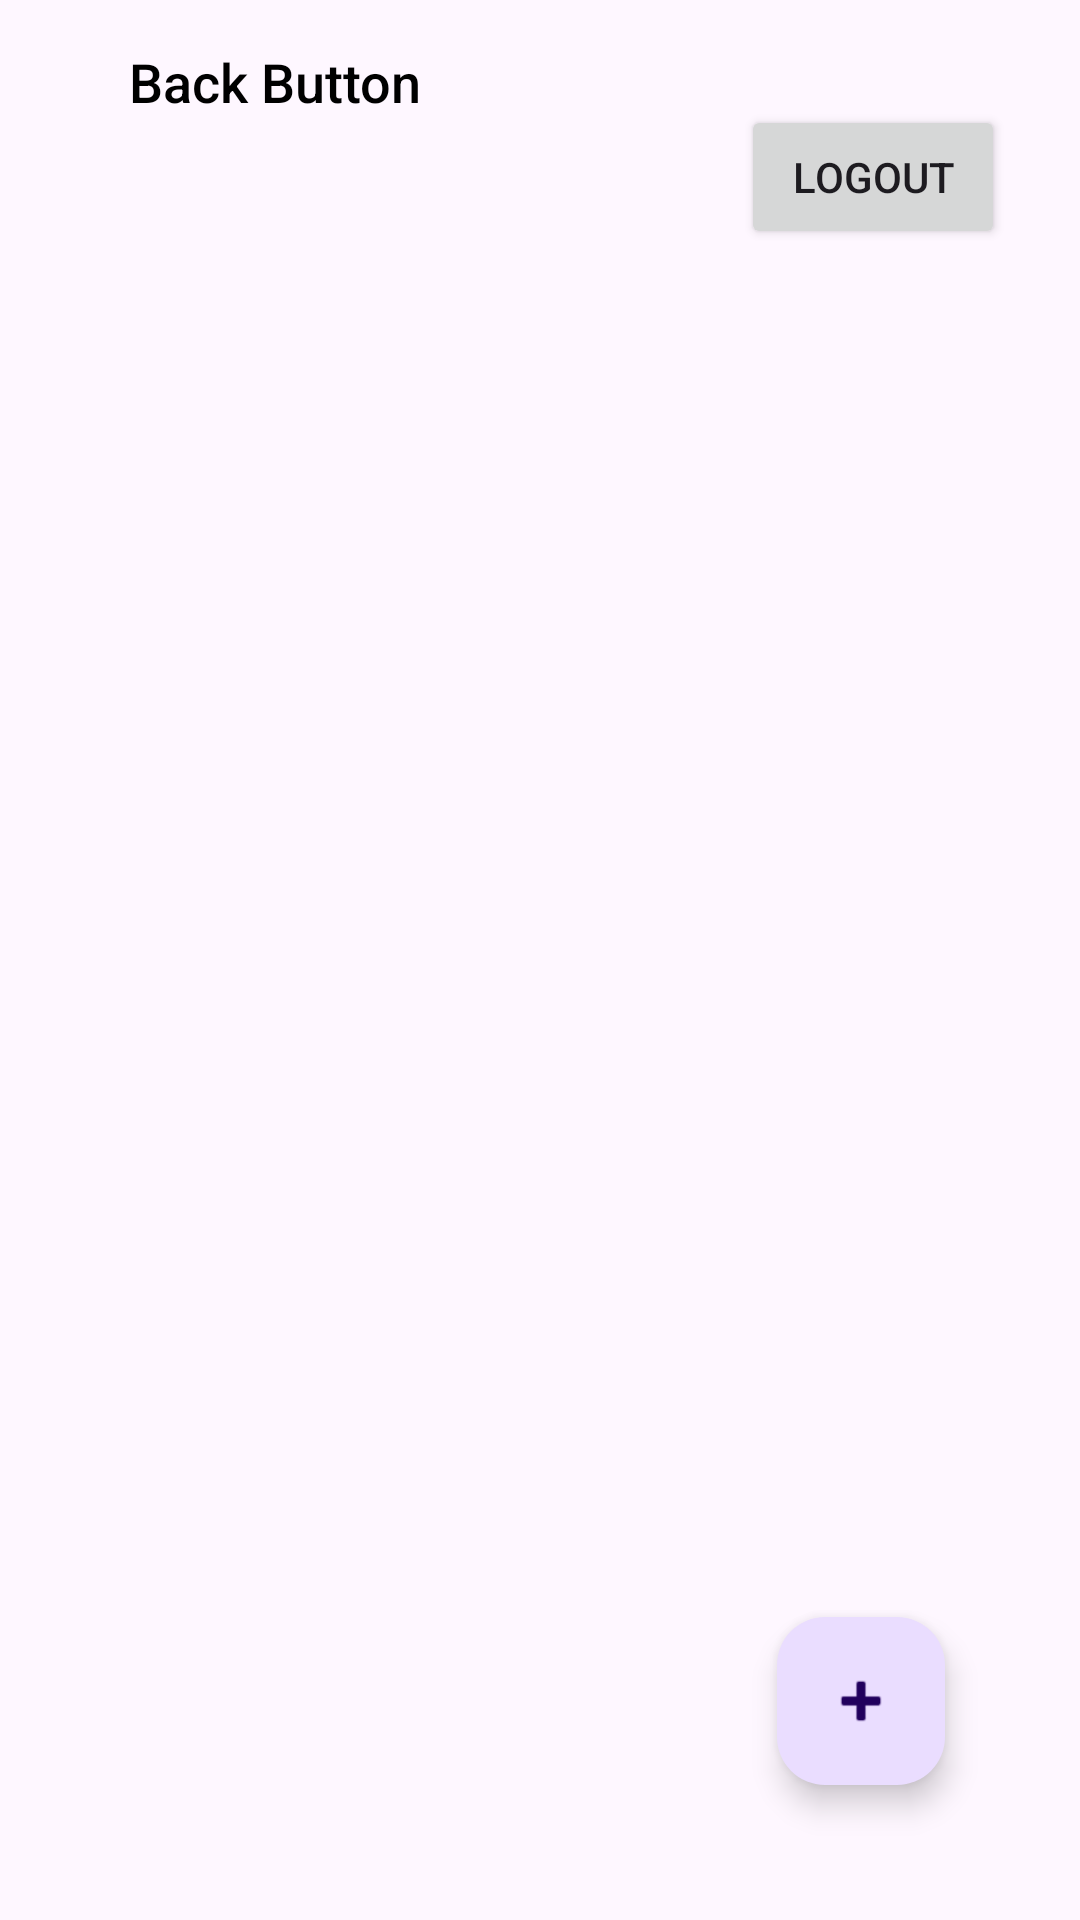

Where to tap for icons on this 1080x1920 app screen, as [x,y]:
add: [861,1701]
